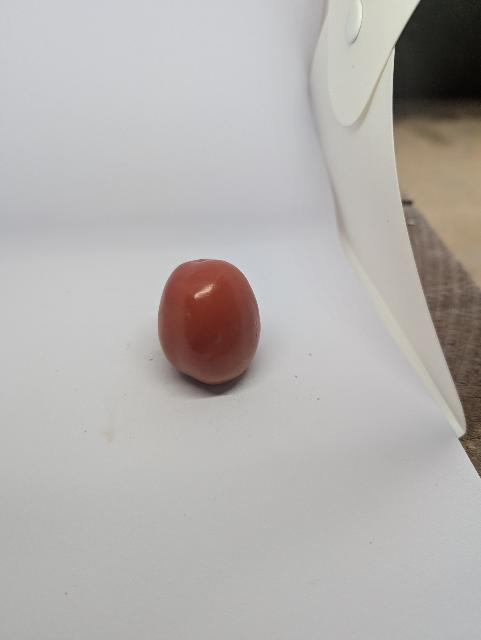red: (131, 247, 297, 402)
